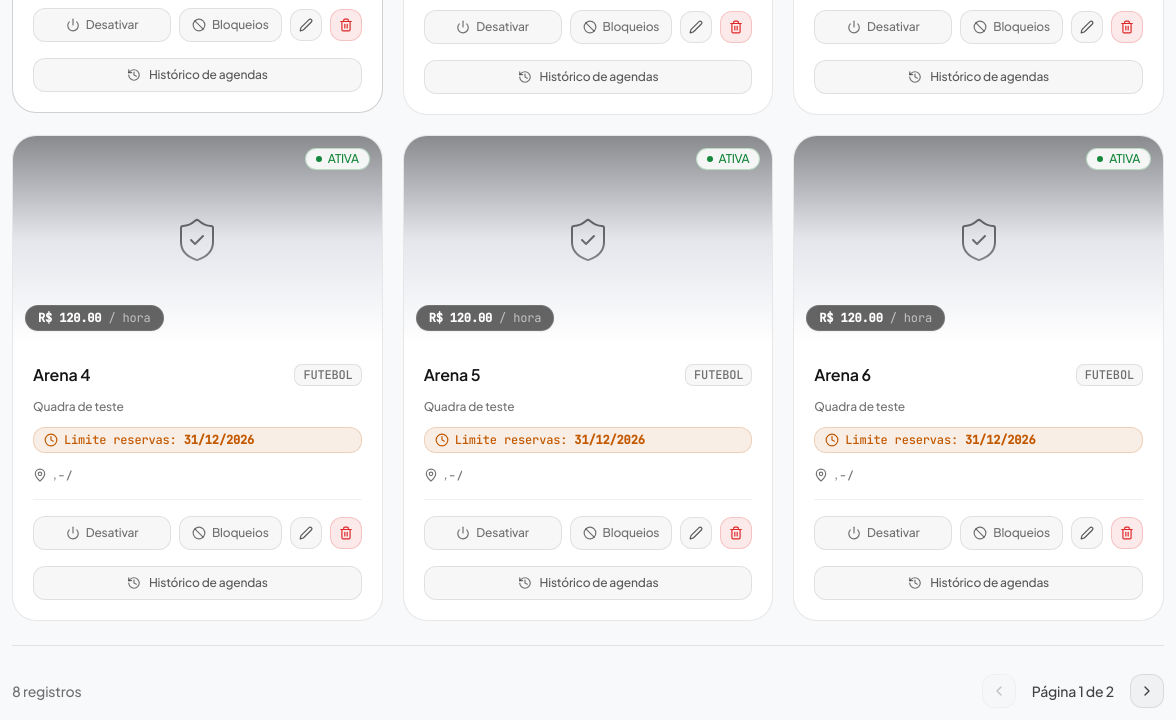
CourtManagementList › deve utilizar o componente Pagination compartilhado e paginar entre páginas
(page scrolled)
Expected: the heading "Arena 6" is shown, [814,363,871,387]
Expected: the text "Arena 7" is not shown
Step 1. Click the button named "Próxima página" → (1147, 691), box [1130,674,1164,708]
(page scrolled)
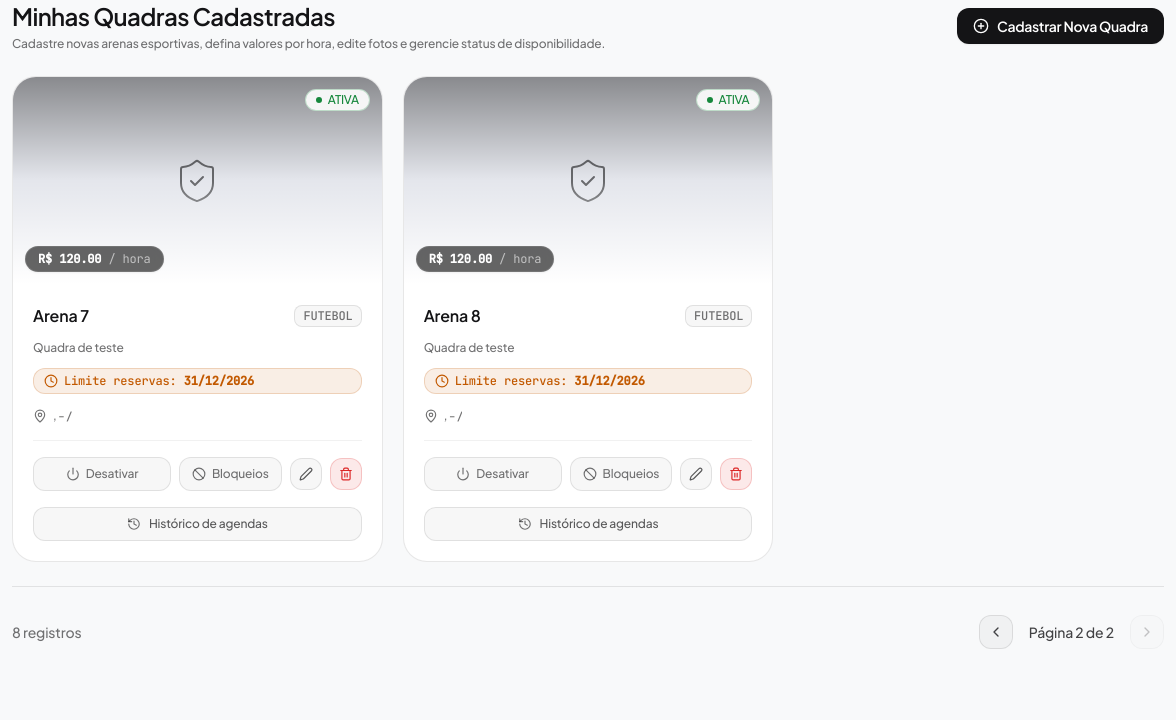
Now the heading "Arena 7" is shown, box [33,304,89,328]
Now the heading "Arena 8" is shown, box [424,304,481,328]
Now the text "Página 2 de 2" is shown, box [1029,623,1114,641]
